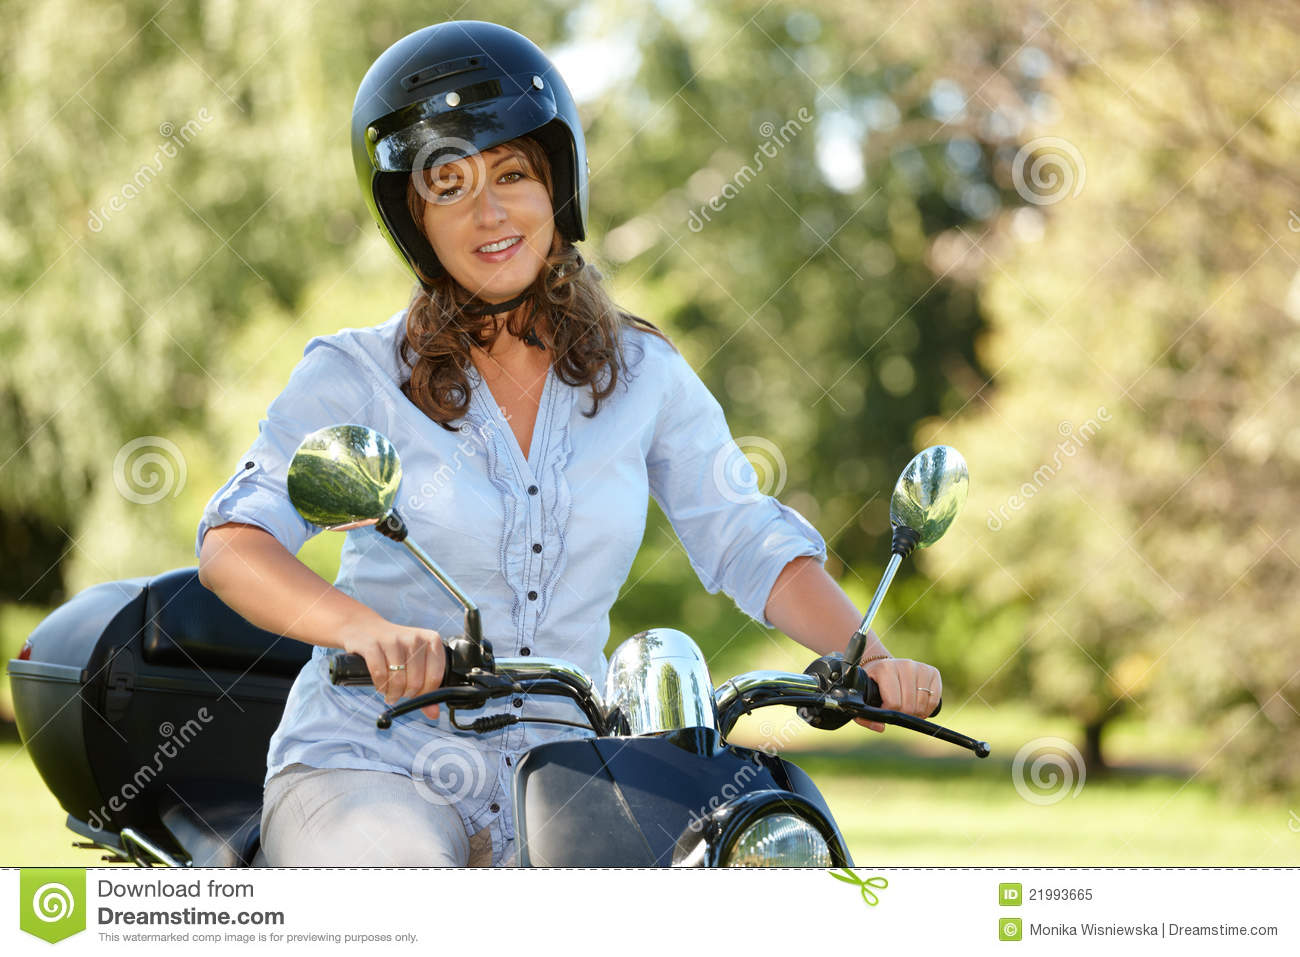helmet: (335, 14, 612, 263)
